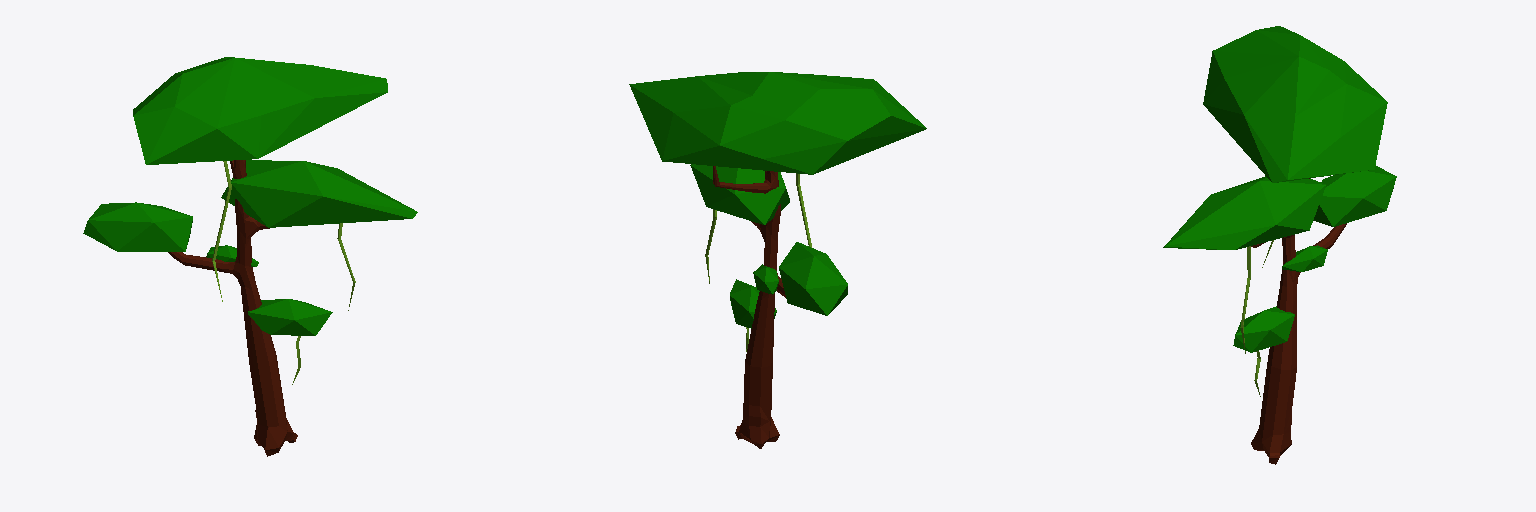
The model's file is liantree.obj.
The picture shows the model from 3 angles: view 1: azimuth 30°, elevation 25°; view 2: azimuth 150°, elevation 25°; view 3: azimuth 270°, elevation 25°; orthographic projection.
Visible parts, largest first — view 1: Icosphere, Cube, Cube.001_Cube.002; view 2: Icosphere, Cube, Cube.001_Cube.002; view 3: Icosphere, Cube.
Boxes of the visible parts, box(x1,y1,x2,y2) form: Icosphere: box(83, 57, 417, 335); Cube: box(168, 160, 297, 456); Cube.001_Cube.002: box(212, 161, 355, 384); Icosphere: box(629, 72, 926, 328); Cube: box(713, 166, 785, 448); Cube.001_Cube.002: box(705, 173, 811, 351); Icosphere: box(1163, 26, 1396, 352); Cube: box(1251, 178, 1346, 464).
Bounding box in the file's own units: 11.71 × 16.09 × 8.79.